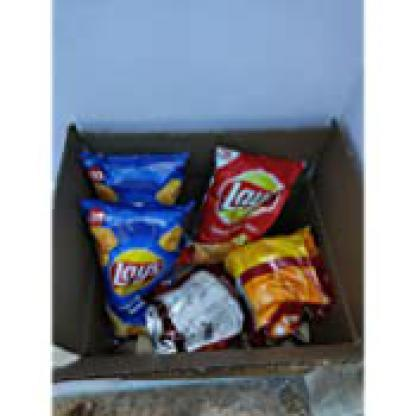indian_magic_masala: (88, 202, 190, 342), (81, 150, 185, 204)
